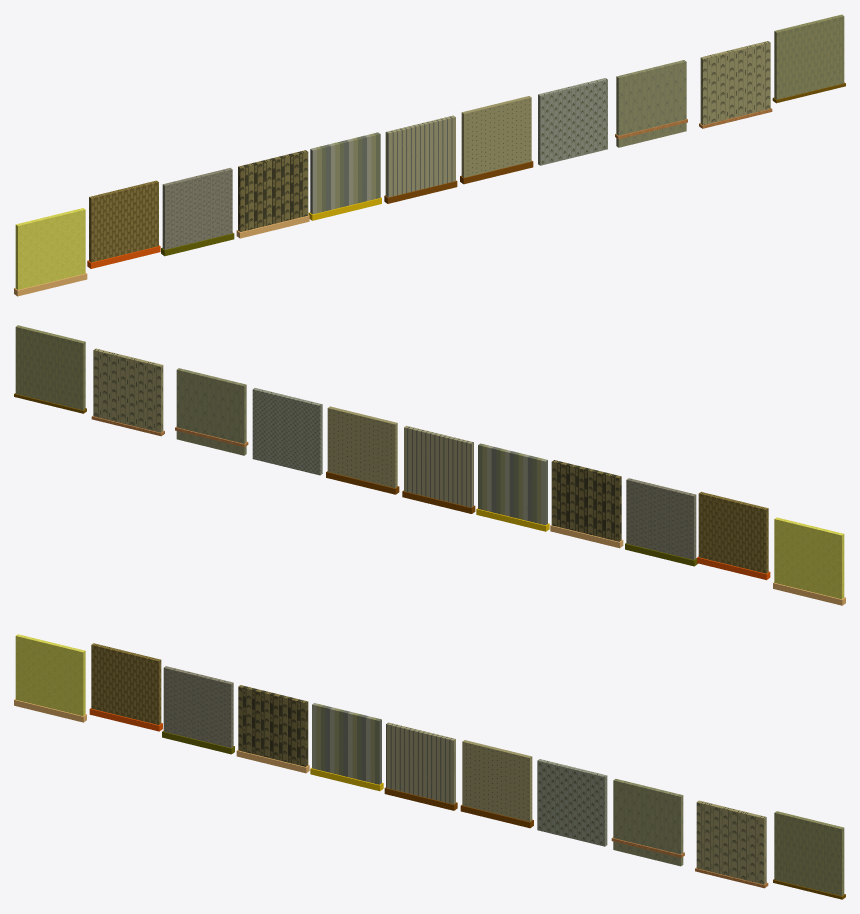
Rendered from backrooms_all_wallpapers.glb.
3 renders of one model, top to bottom at view 1: azimuth 30°, elevation 25°; view 2: azimuth 150°, elevation 25°; view 3: azimuth 330°, elevation 25°, orthographic.
Visible parts, largest first — view 1: Cube.010_12, Cube.005_7, Cube.003_5, Cube.179_2, Cube.002_4, Cube.006_8, Cube.004_6, Cube.009_11, Cube.008_10, Cube.001_3, Cube.007_9; view 2: Cube.010_12, Cube.001_3, Cube.006_8, Cube.003_5, Cube.179_2, Cube.002_4, Cube.009_11, Cube.008_10, Cube.007_9, Cube.004_6, Cube.005_7; view 3: Cube.010_12, Cube.001_3, Cube.006_8, Cube.003_5, Cube.179_2, Cube.002_4, Cube.009_11, Cube.008_10, Cube.007_9, Cube.004_6, Cube.005_7.
Boxes of the visible parts, <box> form: Cube.010_12: <box>772,14,845,103</box>; Cube.005_7: <box>384,115,457,203</box>; Cube.003_5: <box>236,150,309,238</box>; Cube.179_2: <box>14,208,87,296</box>; Cube.002_4: <box>161,167,234,256</box>; Cube.006_8: <box>460,96,533,184</box>; Cube.004_6: <box>308,132,381,220</box>; Cube.009_11: <box>699,41,772,128</box>; Cube.008_10: <box>615,60,687,147</box>; Cube.001_3: <box>87,180,160,268</box>; Cube.007_9: <box>538,78,607,165</box>; Cube.010_12: <box>14,325,86,413</box>; Cube.001_3: <box>697,492,770,580</box>; Cube.006_8: <box>326,406,399,494</box>; Cube.003_5: <box>550,460,623,548</box>; Cube.179_2: <box>773,517,845,605</box>; Cube.002_4: <box>625,478,697,566</box>; Cube.009_11: <box>91,348,164,436</box>; Cube.008_10: <box>175,368,248,455</box>; Cube.007_9: <box>252,388,322,475</box>; Cube.004_6: <box>476,443,549,531</box>; Cube.005_7: <box>402,425,475,513</box>; Cube.010_12: <box>773,811,845,899</box>; Cube.001_3: <box>89,643,162,731</box>; Cube.006_8: <box>460,740,533,828</box>; Cube.003_5: <box>236,685,309,773</box>; Cube.179_2: <box>14,634,86,722</box>; Cube.002_4: <box>162,666,234,754</box>; Cube.009_11: <box>695,800,768,888</box>; Cube.008_10: <box>611,779,684,866</box>; Cube.007_9: <box>537,759,607,846</box>; Cube.004_6: <box>310,703,383,791</box>; Cube.005_7: <box>384,722,457,810</box>.
Size of the model in its own units: 55.24 by 4.97 by 0.7131.
18 materials, 12 textured.
